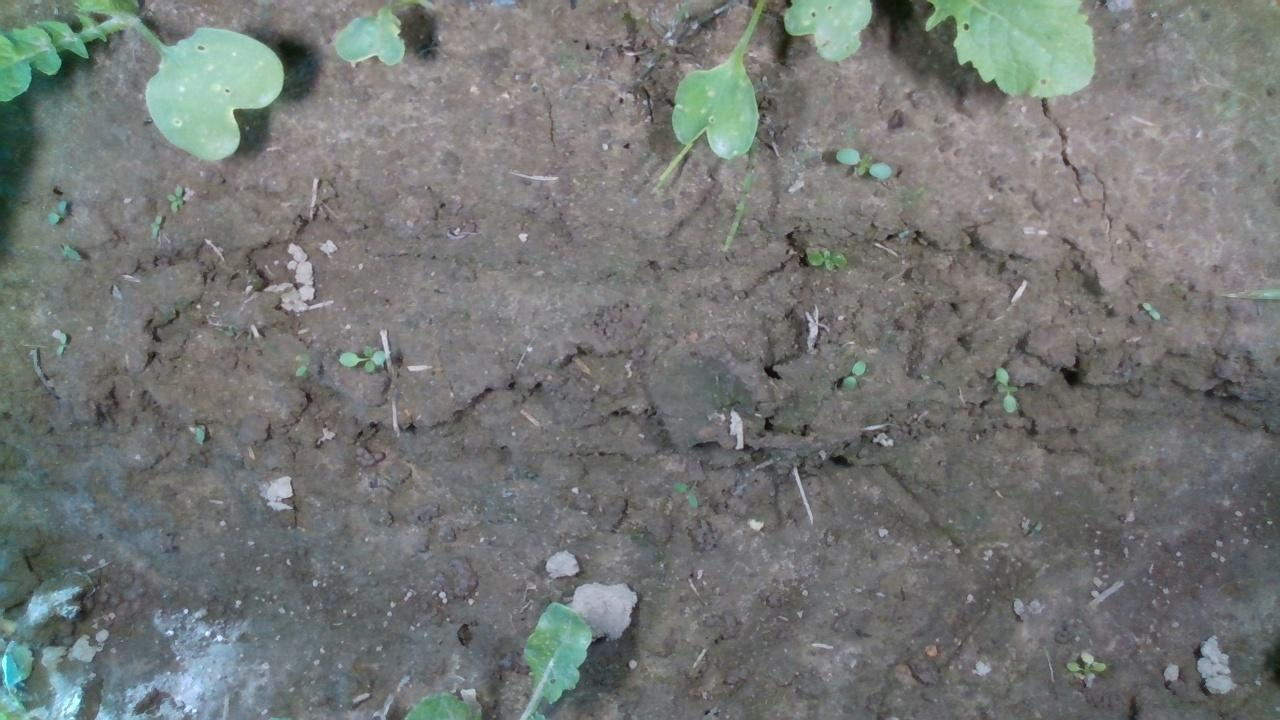weed: (834, 144, 892, 183), (335, 342, 387, 373), (992, 363, 1018, 414), (838, 356, 867, 396), (804, 244, 848, 270), (671, 480, 699, 511), (164, 180, 185, 213), (1138, 296, 1164, 322), (45, 198, 68, 227), (146, 210, 161, 239), (53, 329, 67, 355)
